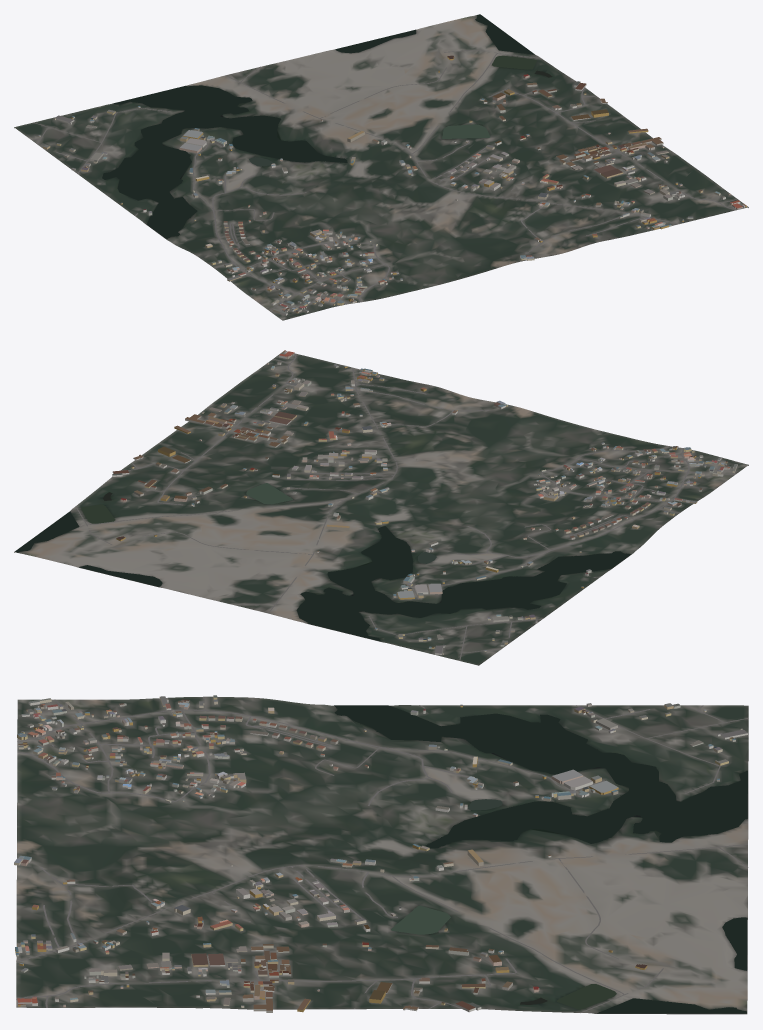
3 renders of one model, top to bottom at view 1: azimuth 30°, elevation 25°; view 2: azimuth 150°, elevation 25°; view 3: azimuth 270°, elevation 25°, orthographic. The views are drawn at different scales.
Parts seen in each view (by area): view 1: ground, water, buildings, roads; view 2: ground, water, buildings, roads; view 3: ground, water, buildings, roads.
Boxes of the visible parts, x1,y1,x2,y2 form: ground: (14, 15, 748, 320); water: (102, 14, 552, 238); buildings: (38, 55, 746, 315); roads: (31, 50, 737, 310); ground: (14, 351, 748, 665); water: (15, 483, 631, 641); buildings: (112, 350, 737, 654); roads: (75, 353, 735, 660); ground: (16, 696, 748, 1014); water: (334, 705, 747, 1013); buildings: (14, 695, 747, 1012); roads: (16, 696, 748, 1012).
Bounding box in the file's own units: 1417 × 26.91 × 1409.
